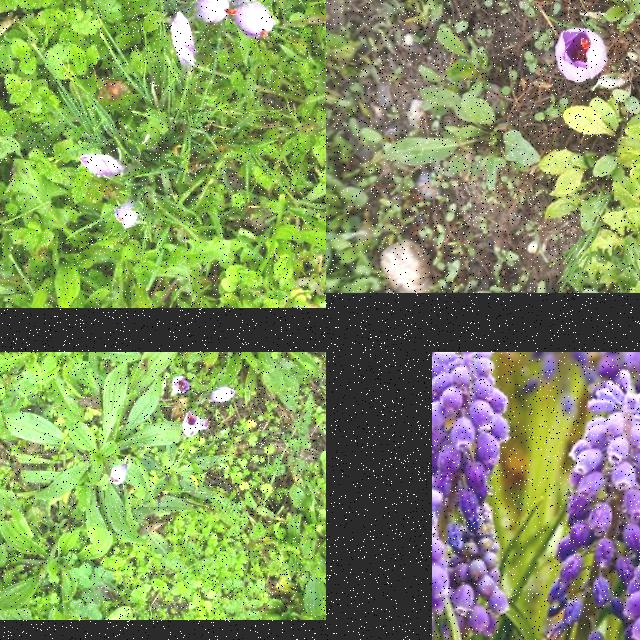flower: (555, 28, 609, 82), (170, 11, 198, 71), (78, 154, 126, 180), (194, 0, 231, 24), (114, 199, 140, 229), (182, 412, 200, 438), (208, 387, 236, 403), (110, 463, 128, 485), (172, 375, 190, 395)
overlap: (228, 0, 275, 38)
